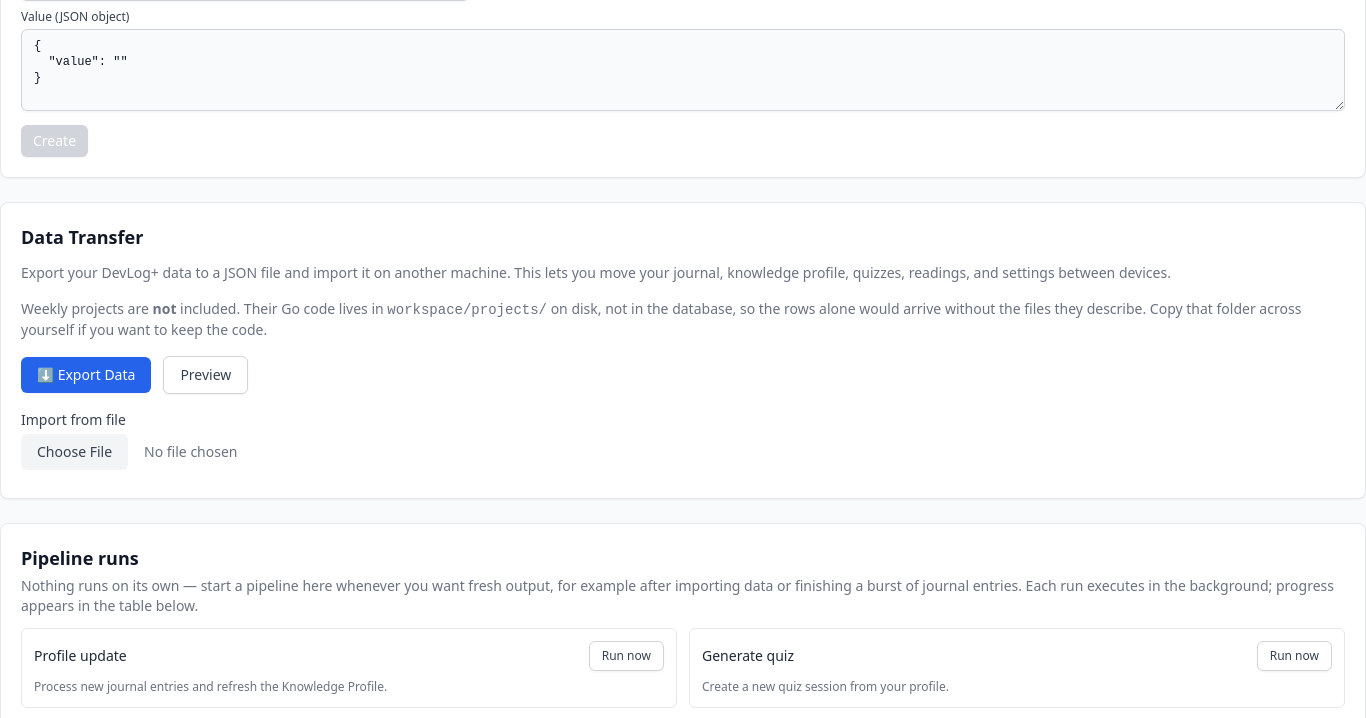
Test: SettingsPage — Data transfer › fetches export metadata and renders non-zero table counts
This screenshot has width=1366, height=718.
(page scrolled)
Click the button "Preview" at [206, 375], box [163,356,248,394]
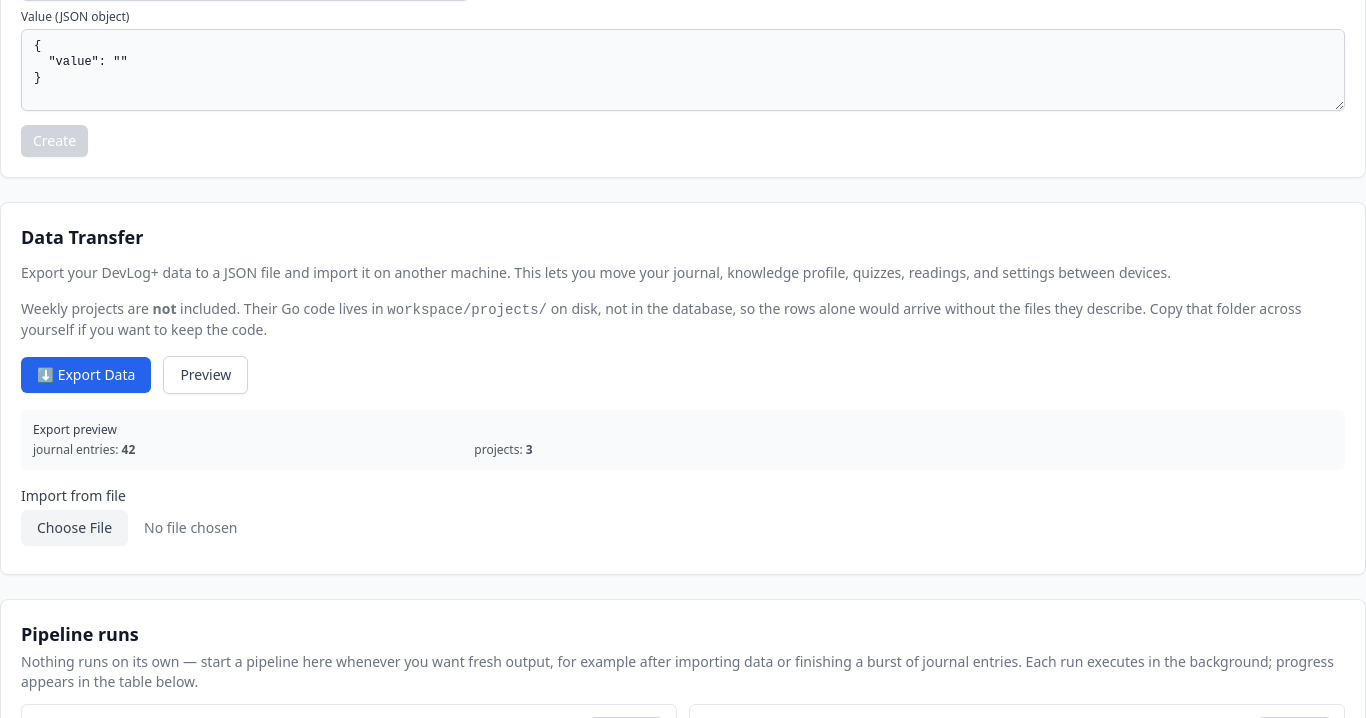
Check: the text "Export preview" is shown, box [33,421,117,438]
Check: the text "journal entries: 42" is shown, box [33,441,135,458]
Check: the text "42" is shown, box [122,441,135,458]
